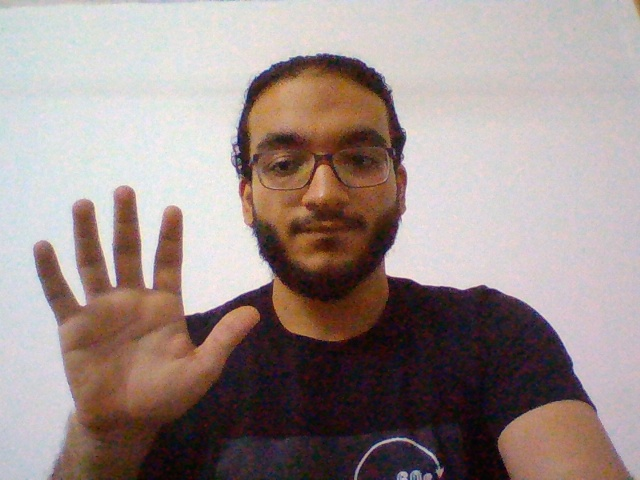Hello: (28, 165, 275, 433)
